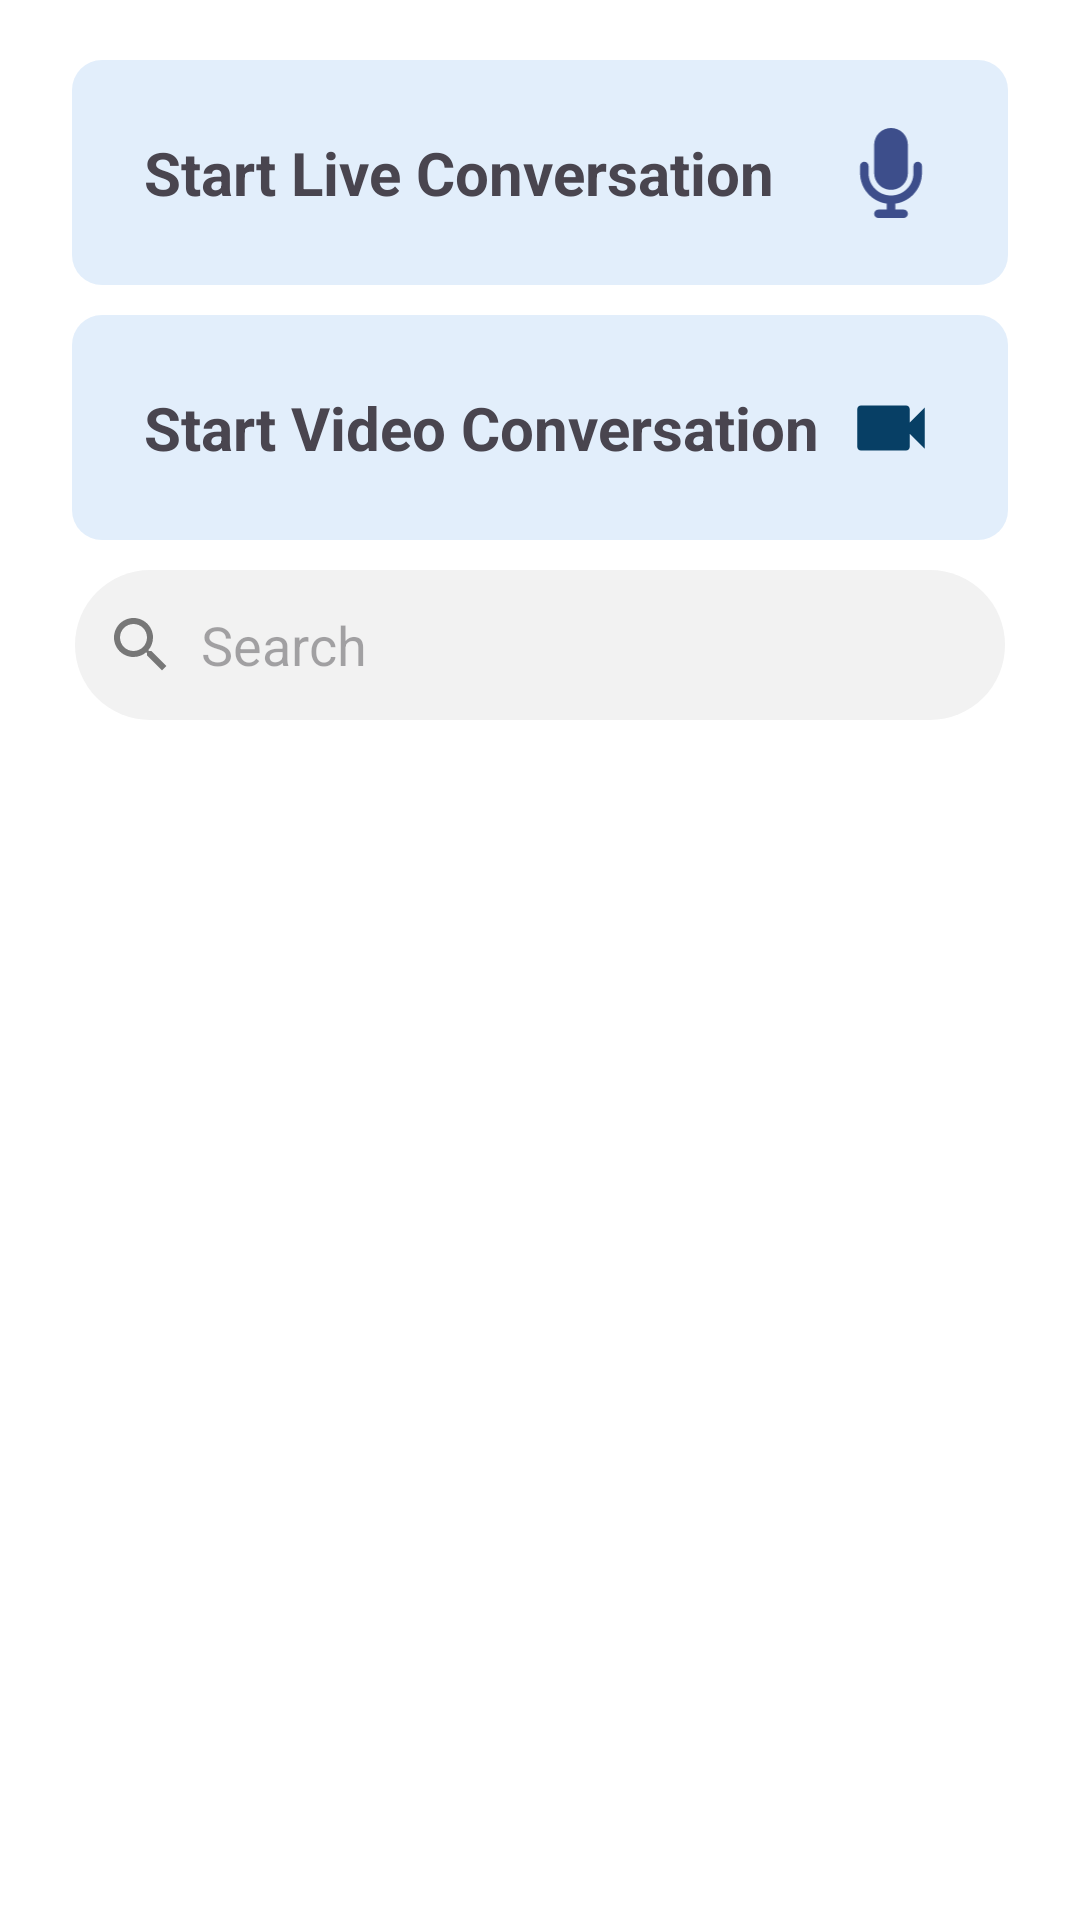

Where to tap for icons on this 1080×1920 app screen, as point (x, y):
microphone: point (891, 173)
videocam: point (891, 428)
